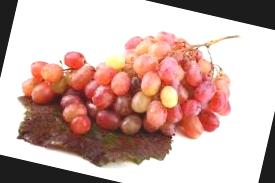Grape Rotten: (13, 0, 245, 165)
